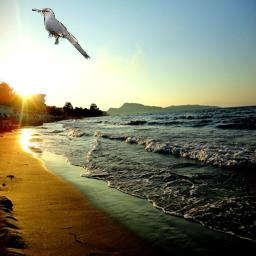Cuckoo: (32, 8, 91, 60)
